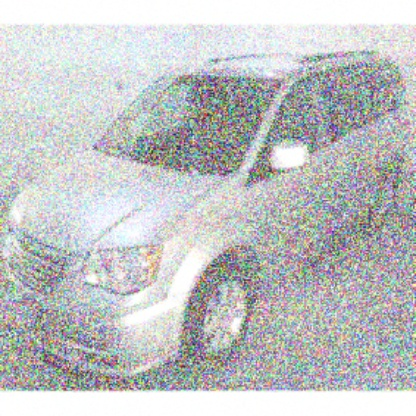Vehicle: (3, 51, 415, 388)
